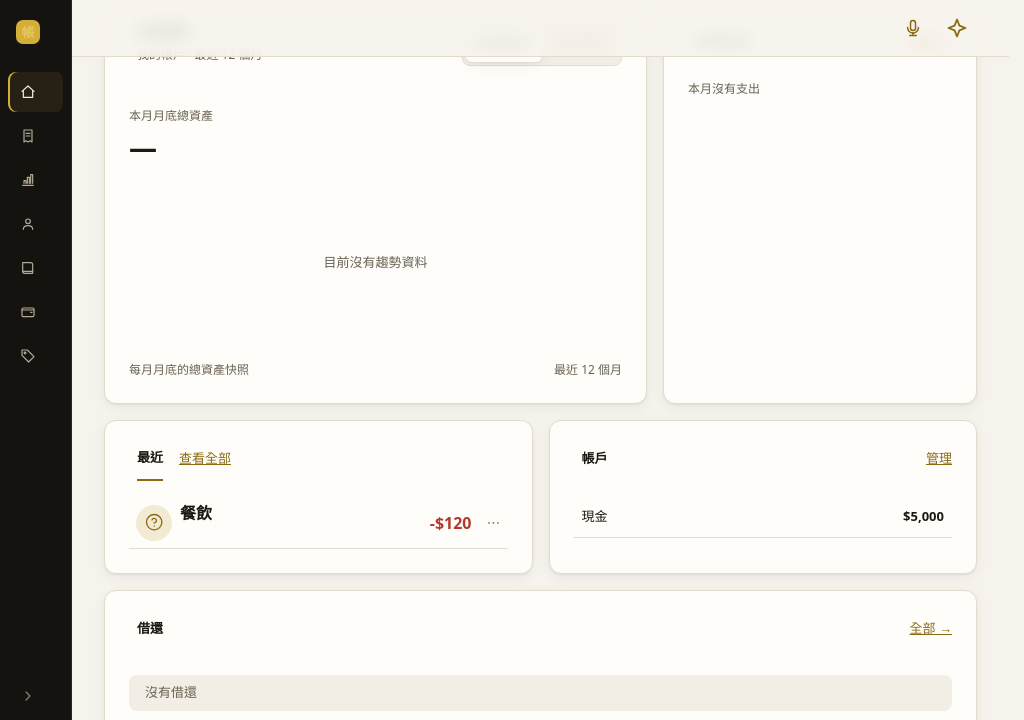
Test: Writing a transaction refreshes account balances › asks for the balances again after a transaction is edited
(page scrolled)
Expected: the text named "現金餘額" reads "$5,000", x1=903 y1=507 x2=944 y2=525
// dashboard 的最近交易沒有鉛筆，整列本身就是「編輯這一筆」的按鈕（假設 8）。
Click the button "餐飲" at coordinates (266, 523), box x1=180 y1=497 x2=352 y2=548
(page scrolled)
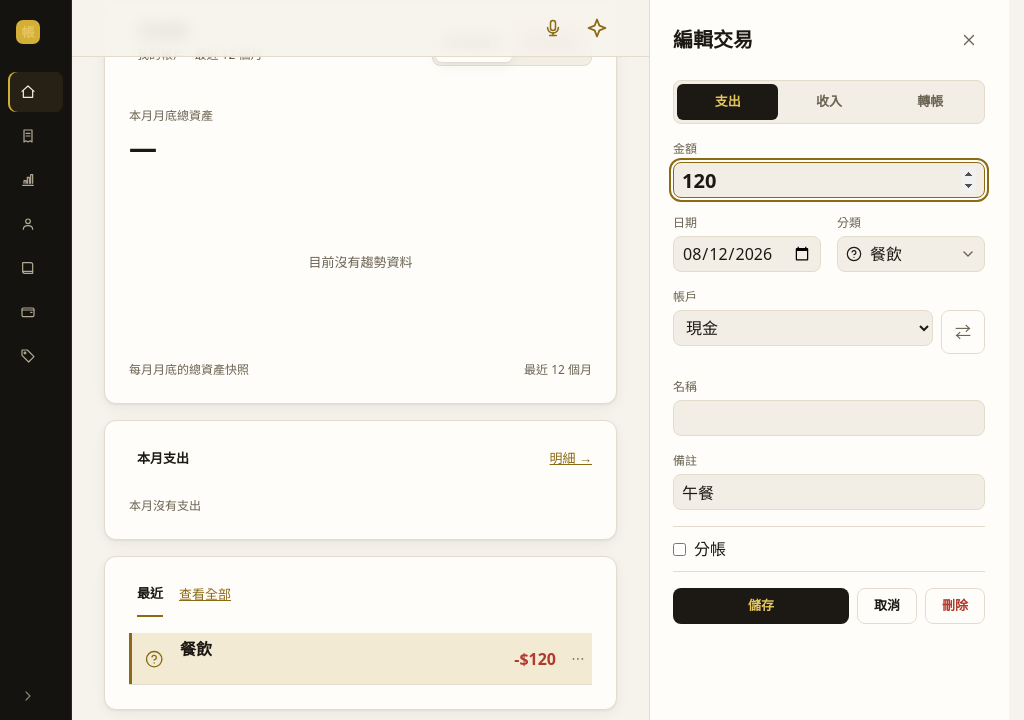
Replace the text in the number field labelled "金額" with "200" at coordinates (829, 180), box x1=673 y1=162 x2=985 y2=198
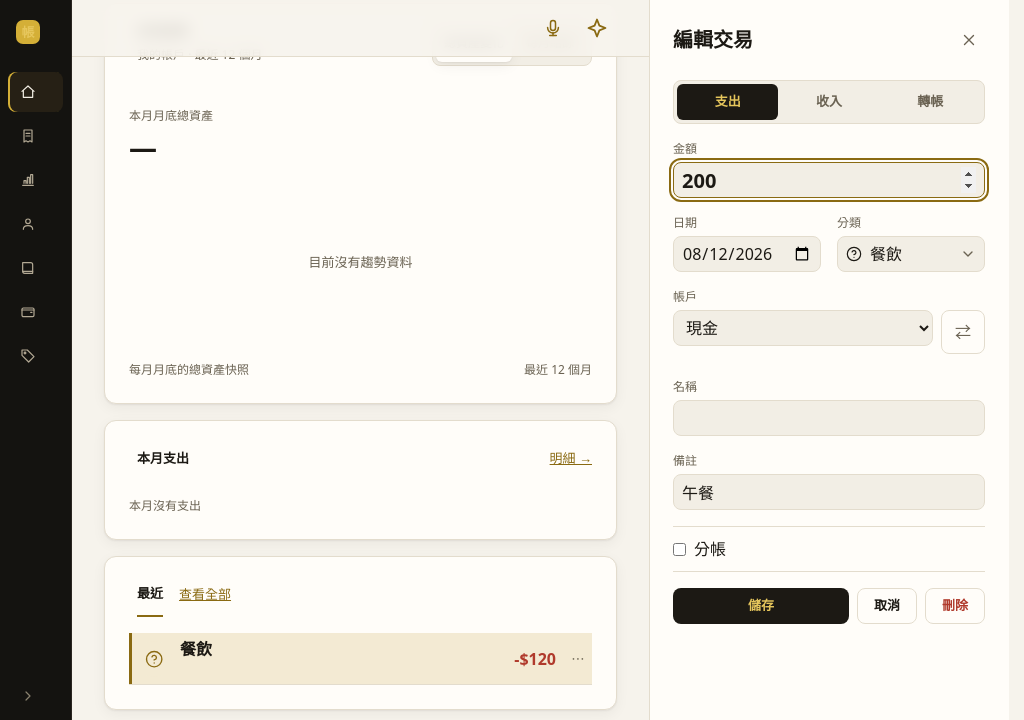
Click the button "儲存" at coordinates (761, 606), box x1=673 y1=588 x2=849 y2=624
(page scrolled)
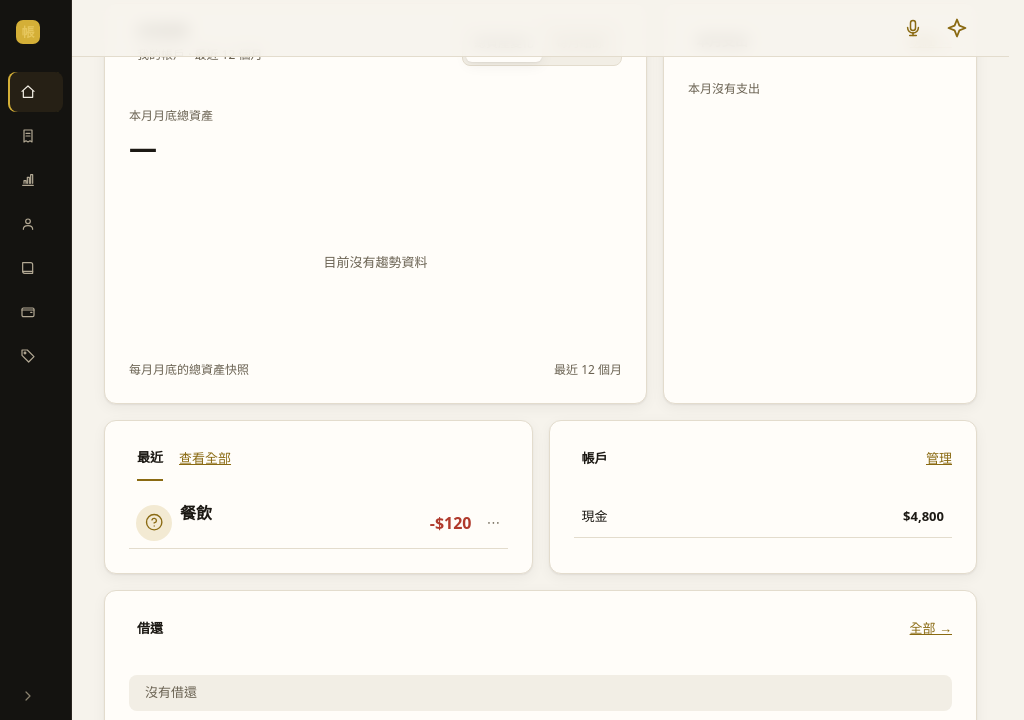
Expected: the text "$4,800" is shown, x1=903 y1=507 x2=944 y2=527
